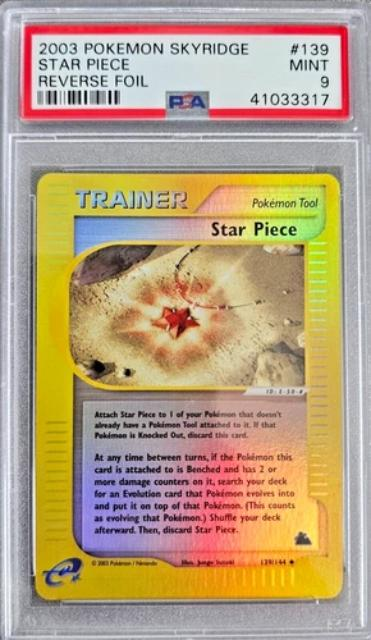Card: (31, 169, 347, 604)
Name: (205, 215, 306, 241)
